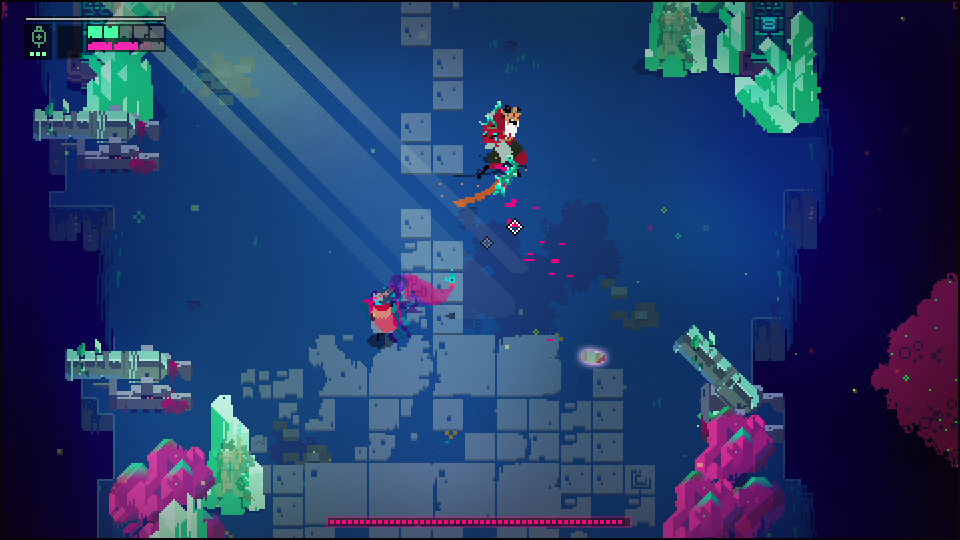hanged_man: (457, 104, 523, 215)
player: (370, 294, 402, 341)
